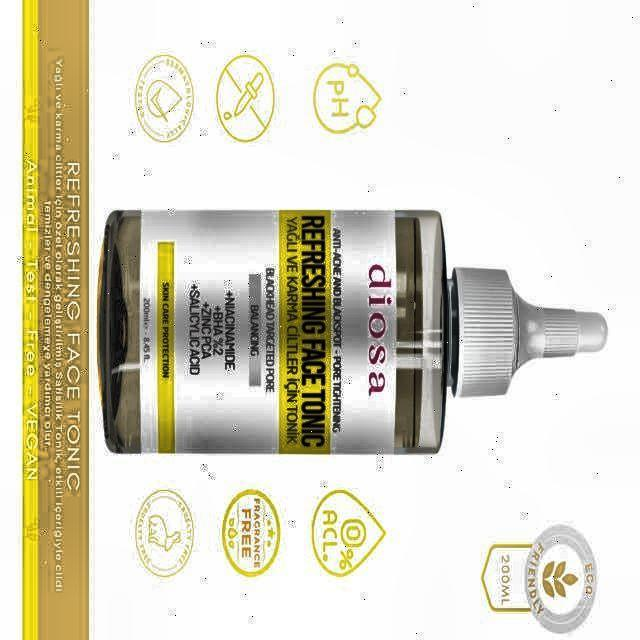plastic: (99, 211, 606, 452)
